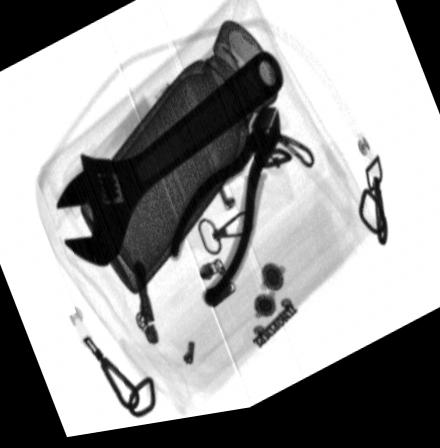Pliers: (170, 113, 283, 309)
Wrench: (56, 58, 282, 270)
